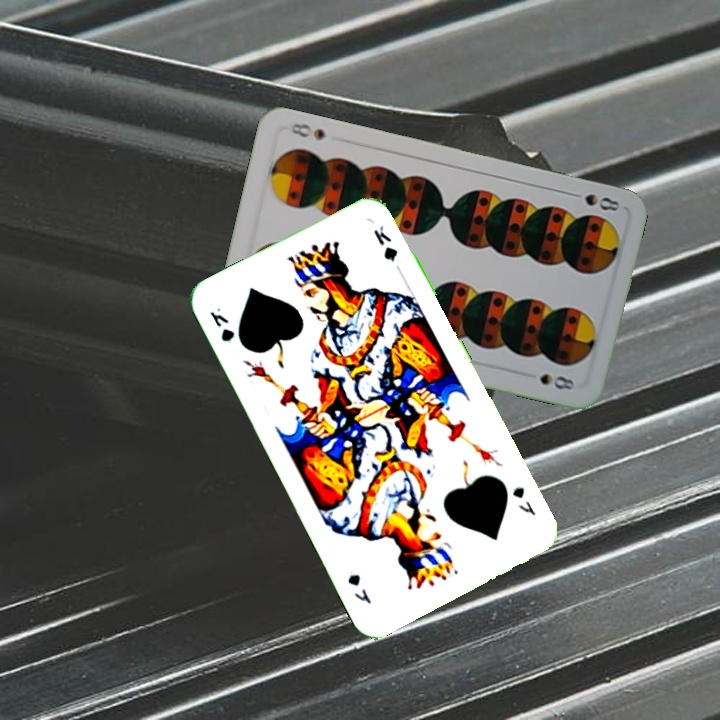GK: (205, 303, 238, 347), (508, 483, 539, 518)
S8: (564, 188, 624, 214)
